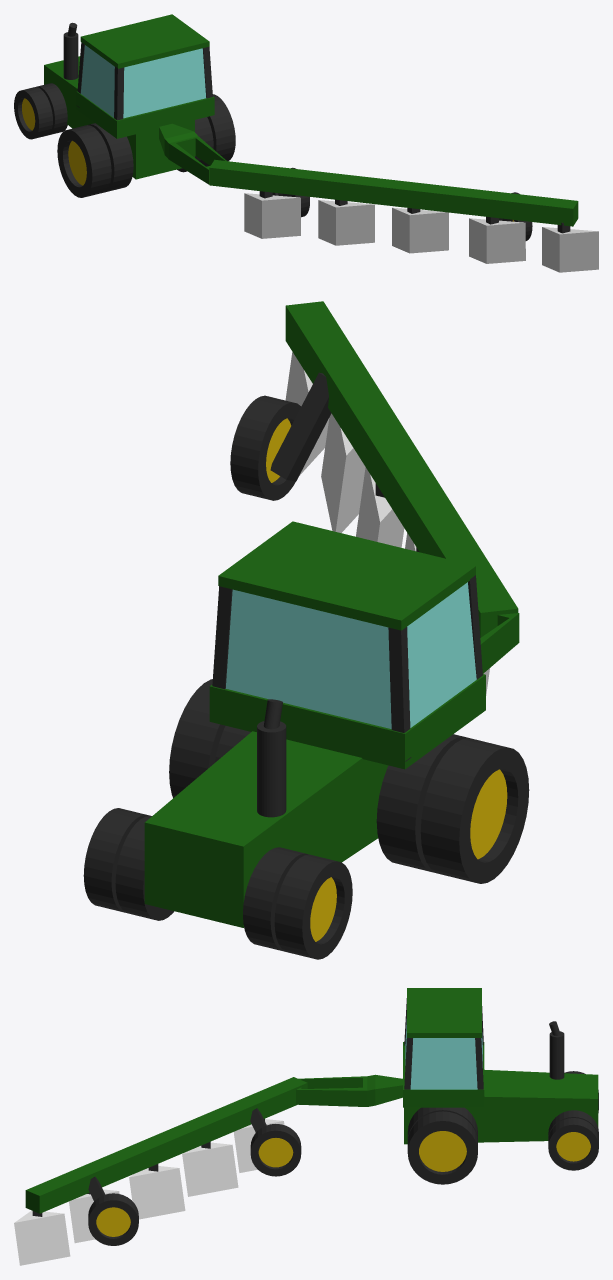
File: plow.gltf
The picture shows the model from 3 angles, top to bottom: view 1: azimuth 30°, elevation 25°; view 2: azimuth 150°, elevation 25°; view 3: azimuth 270°, elevation 25°; orthographic projection. The views are drawn at different scales.
Parts seen in each view (by area): view 1: Cube, Cube.025, Cube.026, Tire.007, Cube.024, Cube.023, Cube.001, Cube.002, Cube.003, Cube.004, Cube.005, Cube.022 (+8 smaller); view 2: Cube.024, Cube.025, Cube, Cube.026, Tire.007, Cube.023, Tire.011, Tire.006, Tire.002, Tire.004, Cube.004, Tire.008 (+9 smaller); view 3: Cube, Cube.024, Tire.004, Cube.026, Cube.025, Cube.022, Cube.005, Cube.002, Cube.003, Tire.002, Tire.001, Tire.008 (+6 smaller).
Part boxes in pixels (box(x1,y1,x2,y2)): Cube: box(209, 159, 578, 226); Cube.025: box(80, 45, 205, 118); Cube.026: box(80, 14, 209, 68); Tire.007: box(57, 125, 111, 197); Cube.024: box(44, 56, 194, 179); Cube.023: box(76, 91, 214, 138); Cube.001: box(244, 193, 300, 238); Cube.002: box(318, 200, 374, 245); Cube.003: box(392, 207, 448, 253); Cube.004: box(469, 218, 525, 263); Cube.005: box(542, 227, 598, 272); Cube.022: box(159, 123, 226, 184); Cube.024: box(144, 731, 388, 927); Cube.025: box(225, 582, 476, 728); Cube: box(285, 301, 518, 637); Cube.026: box(218, 521, 475, 630); Tire.007: box(420, 738, 529, 883); Cube.023: box(209, 674, 485, 769); Tire.011: box(274, 854, 352, 959); Tire.006: box(376, 734, 468, 872); Tire.002: box(230, 395, 301, 500); Tire.004: box(169, 679, 225, 797); Cube.004: box(321, 413, 365, 532); Tire.008: box(83, 808, 149, 912); Cube: box(25, 1077, 307, 1213); Cube.024: box(404, 1069, 598, 1144); Tire.004: box(407, 1111, 477, 1184); Cube.026: box(407, 988, 481, 1037); Cube.025: box(405, 1019, 482, 1089); Cube.022: box(296, 1074, 402, 1106); Cube.005: box(14, 1210, 70, 1265); Cube.002: box(182, 1142, 238, 1196); Cube.003: box(129, 1166, 185, 1219); Tire.002: box(88, 1193, 138, 1245); Tire.001: box(250, 1124, 301, 1176); Tire.008: box(548, 1118, 598, 1170).
Bounding box in the file's own units: 13.21 × 5.67 × 21.14.
